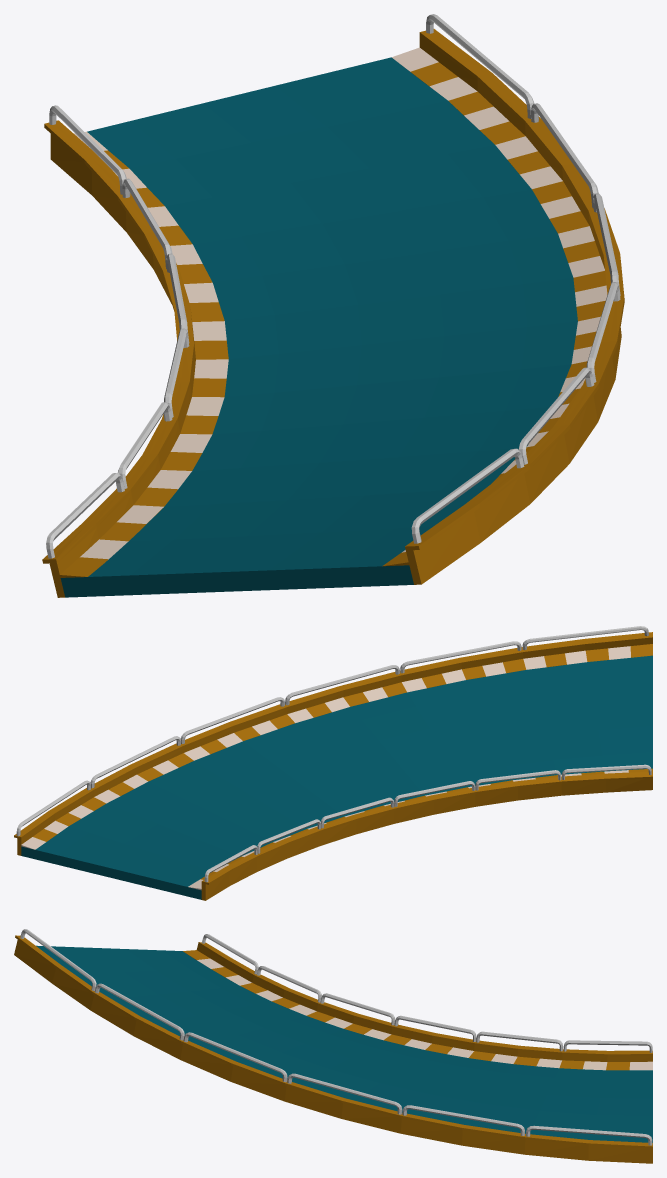
File: curveRight-60-Banked-15.FBX
The picture shows the model from 3 angles, top to bottom: view 1: azimuth 30°, elevation 25°; view 2: azimuth 150°, elevation 25°; view 3: azimuth 270°, elevation 25°; orthographic projection. The views are drawn at different scales.
Visible parts, largest first — view 1: curveRight-60-banked-15, wall_l, wall_r, curbs_r, curbs_l; view 2: curveRight-60-banked-15, wall_l, wall_r, curbs_l, curbs_r; view 3: curveRight-60-banked-15, wall_l, wall_r, curbs_r.
Part boxes in pixels (box(x1,y1,x2,y2)): curveRight-60-banked-15: box(60, 57, 577, 597); wall_l: box(405, 14, 624, 584); wall_r: box(42, 105, 195, 597); curbs_r: box(60, 131, 228, 577); curbs_l: box(382, 47, 607, 566); curveRight-60-banked-15: box(21, 655, 652, 899); wall_l: box(14, 626, 652, 855); wall_r: box(201, 764, 652, 900); curbs_l: box(21, 644, 652, 849); curbs_r: box(188, 768, 652, 890); curveRight-60-banked-15: box(36, 945, 652, 1142); wall_l: box(14, 929, 652, 1163); wall_r: box(196, 934, 652, 1061); curbs_r: box(183, 950, 652, 1070).
Size of what is drawn, in the model's own units: 443 by 82.86 by 582.
